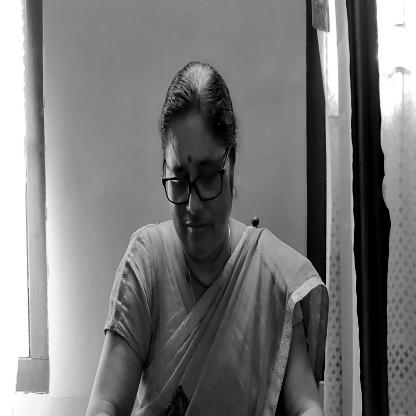Normal: (160, 64, 236, 244)
